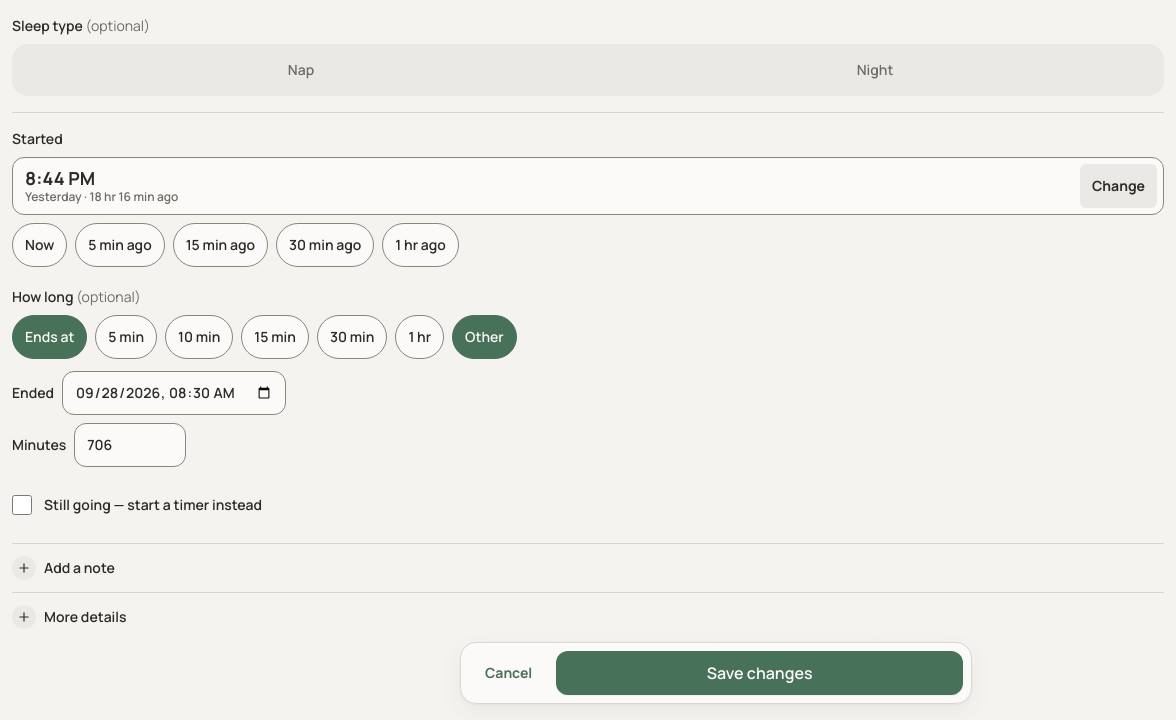
Test: setting how long an activity lasted by its end time › moves the Ended field to match a preset, so the two never disagree
The width and height of the screenshot is (1176, 720).
Expected: the field labelled "Ended" holds "2026-09-28T08:30", [62,371,286,415]
# Choosing a length is choosing an end: 8:44pm + 30 min.
Click the button "30 min".
click(352, 337)  # box [317,315,387,359]
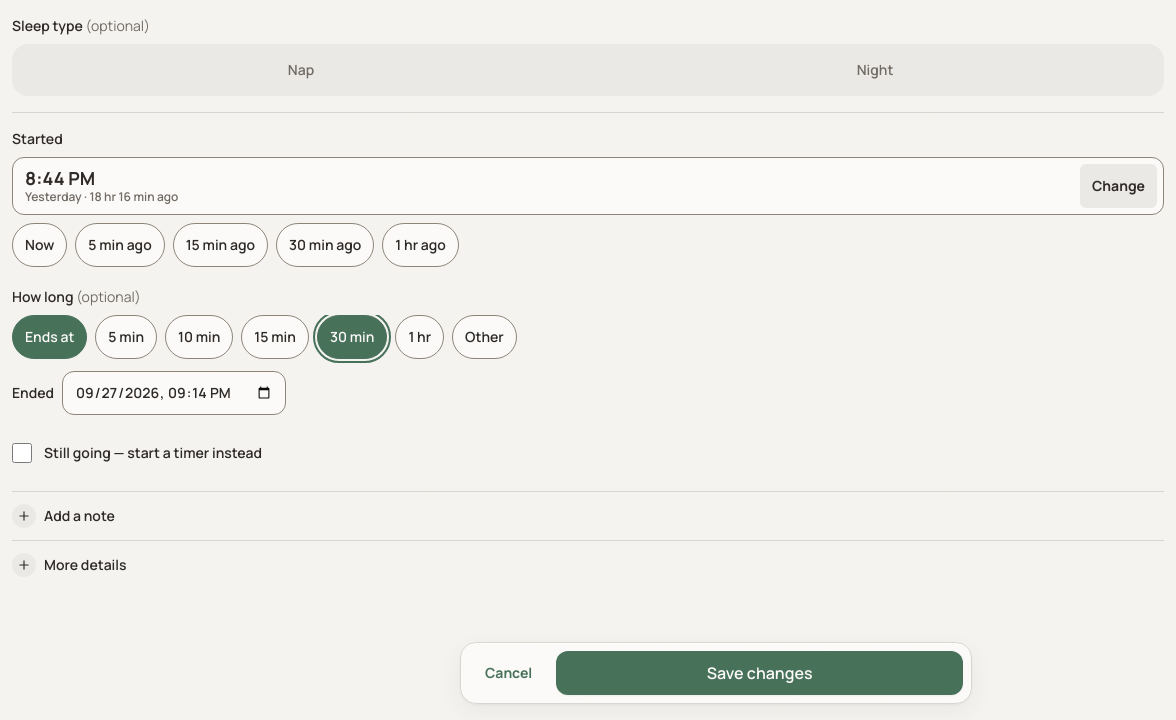
Expected: the field labelled "Ended" holds "2026-09-27T21:14", [62,371,286,415]
